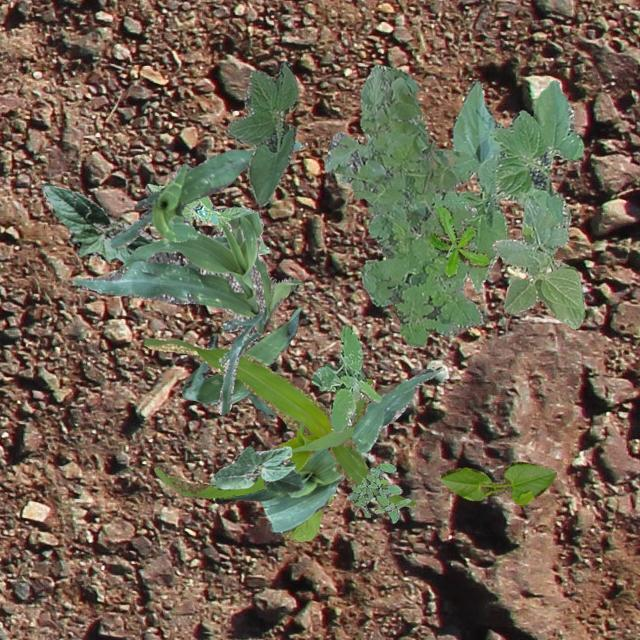crop: (71, 210, 302, 414), (142, 337, 416, 506), (214, 366, 438, 534), (450, 80, 582, 292), (110, 141, 302, 247), (181, 306, 299, 418), (490, 195, 584, 328), (225, 61, 298, 206), (40, 182, 156, 262), (144, 182, 268, 254), (440, 461, 554, 504), (210, 444, 302, 492), (280, 494, 332, 540)
weed: (324, 64, 482, 346), (310, 326, 380, 432), (428, 204, 488, 276), (346, 462, 410, 522)
